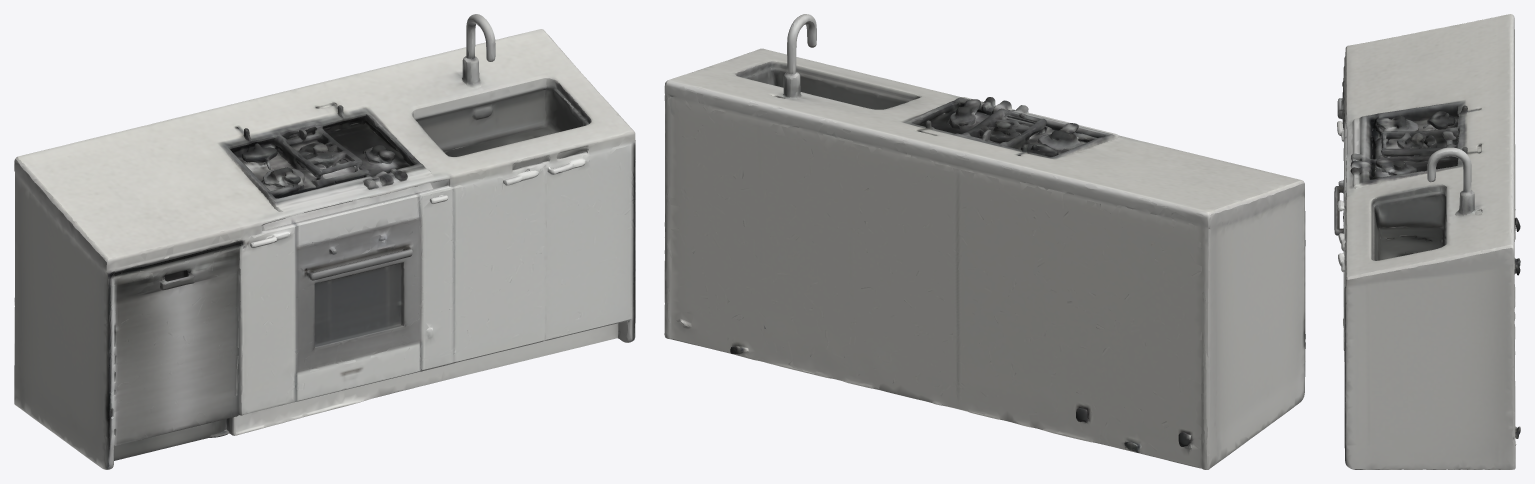
The model's file is item_8566138f.glb.
3 views of the same model, side by side, from view 1: azimuth 30°, elevation 25°; view 2: azimuth 150°, elevation 25°; view 3: azimuth 270°, elevation 25° (orthographic). The views are drawn at different scales.
Visible parts, largest first — view 1: world; view 2: world; view 3: world.
Boxes of the visible parts, box(x1,y1,x2,y2) form: world: box(14, 14, 635, 469); world: box(664, 14, 1305, 469); world: box(1334, 14, 1520, 469).
Bounding box in the file's own units: 2.4 × 1.34 × 0.8104.
1 material, 1 textured.
